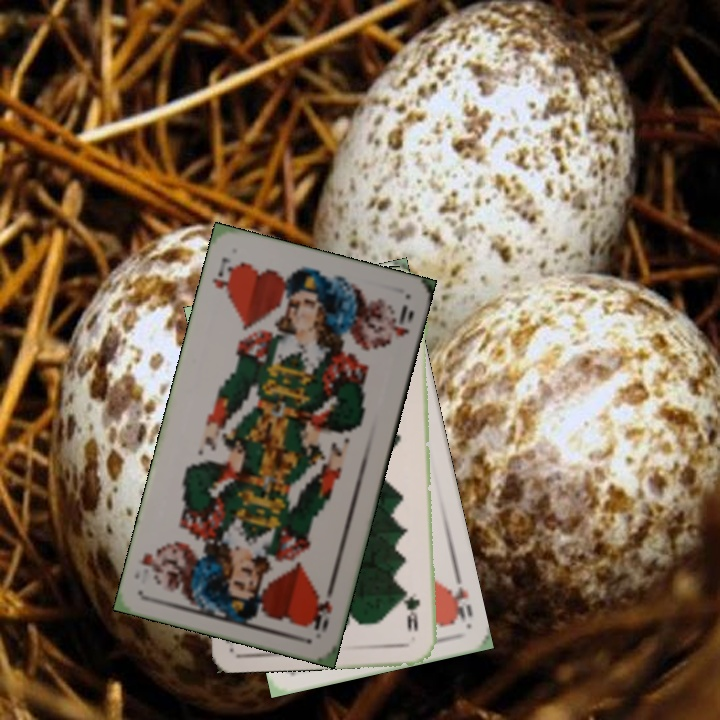G9: (402, 586, 422, 634)
HO: (444, 569, 475, 627), (309, 578, 338, 635), (209, 253, 239, 301)
